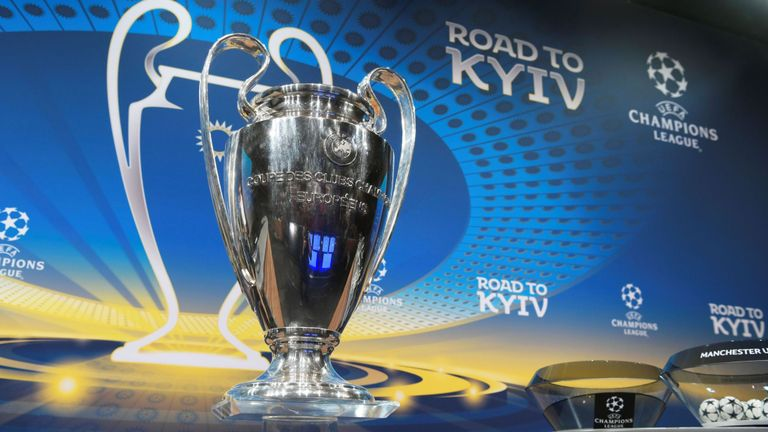trophy: (198, 23, 418, 426)
